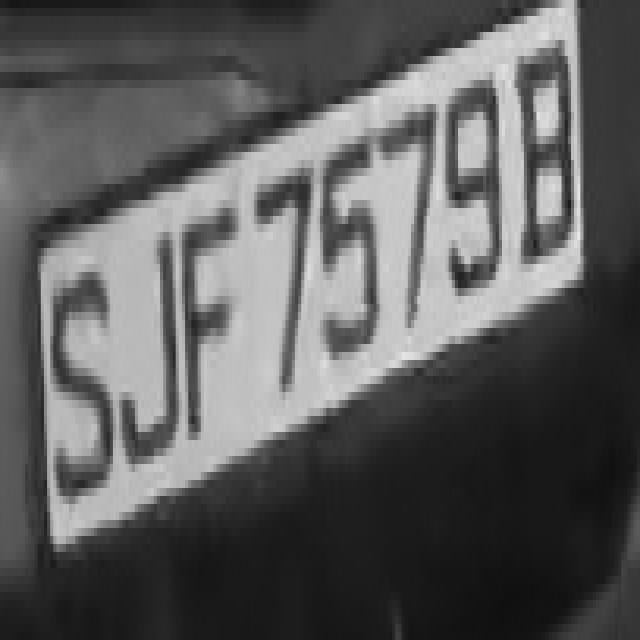5: (307, 136, 383, 384)
7: (370, 88, 442, 360), (248, 168, 314, 408)
9: (433, 72, 505, 320)
B: (514, 32, 580, 272)
F: (179, 184, 245, 464)
J: (103, 200, 182, 504)
S: (44, 224, 119, 504)
